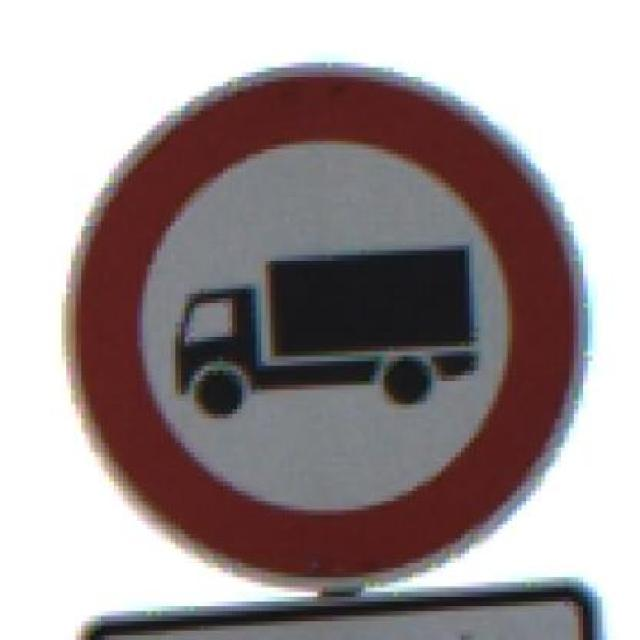Truck traffic is prohibited: (56, 48, 598, 588)
